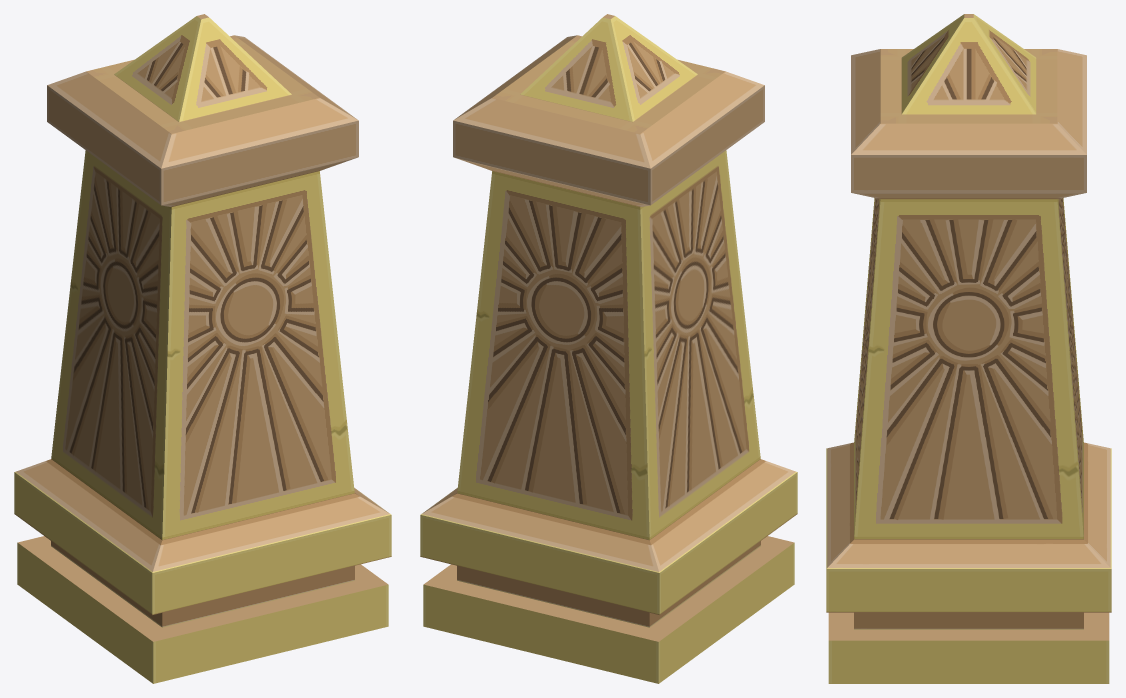
The model's file is Cornerstone.FBX.
3 views of the same model, side by side, from view 1: azimuth 30°, elevation 25°; view 2: azimuth 150°, elevation 25°; view 3: azimuth 270°, elevation 25° (orthographic). The views are drawn at different scales.
Parts seen in each view (by area): view 1: Cornerstone; view 2: Cornerstone; view 3: Cornerstone.
Boxes of the visible parts, x1,y1,x2,y2 form: Cornerstone: (14,14,391,683); Cornerstone: (420,14,797,683); Cornerstone: (826,14,1111,683).
Bounding box in the file's own units: 1.37 × 3.22 × 1.37.
